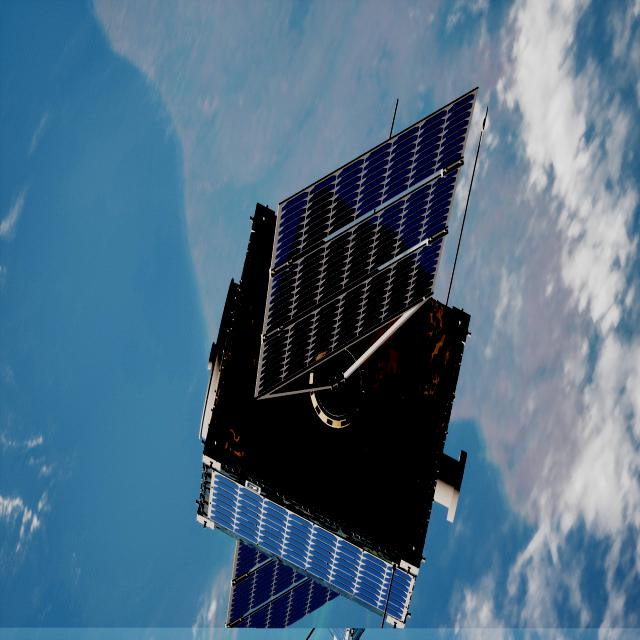satellite: (196, 91, 477, 630)
